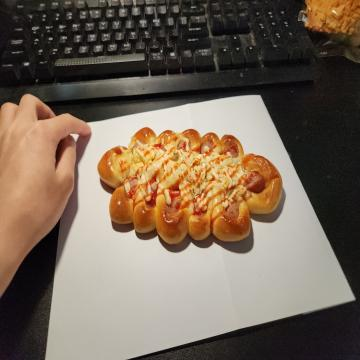pizza_bread: (97, 128, 284, 245)
